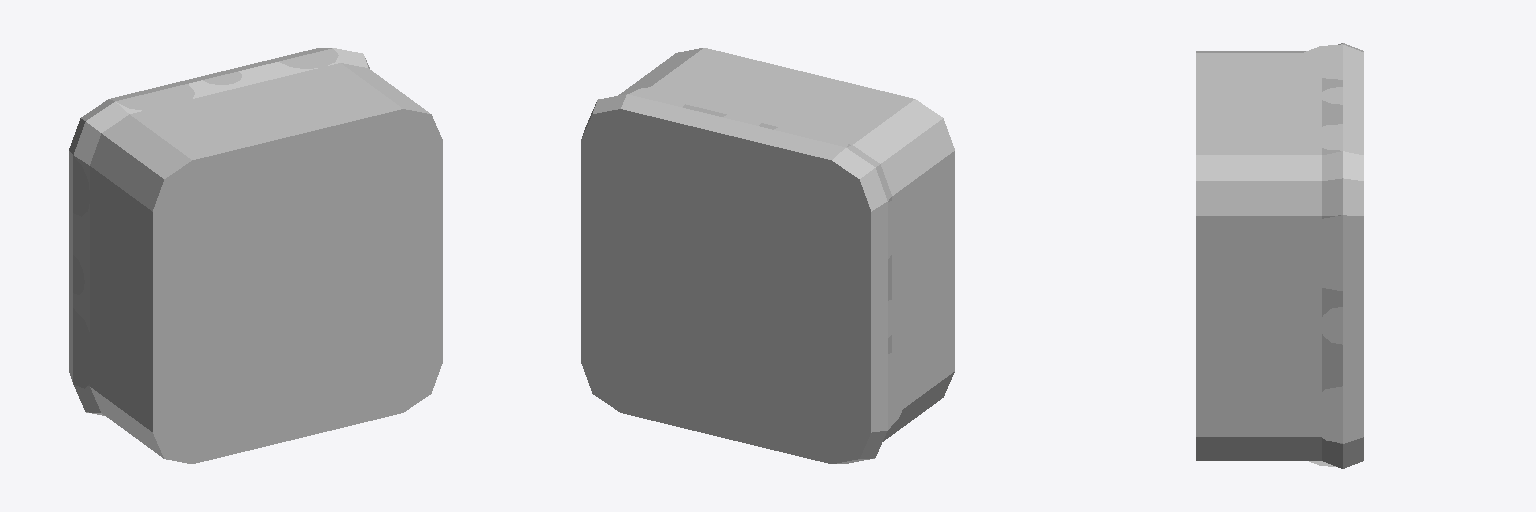
File: block-snow-overhang-large.obj
3 views of the same model, side by side, from view 1: azimuth 30°, elevation 25°; view 2: azimuth 150°, elevation 25°; view 3: azimuth 270°, elevation 25° (orthographic).
Visible parts, largest first — view 1: block-snow-overhang-large; view 2: block-snow-overhang-large; view 3: block-snow-overhang-large.
Boxes of the visible parts, x1=… form: block-snow-overhang-large: x1=69, y1=48, x2=442, y2=463; block-snow-overhang-large: x1=581, y1=48, x2=954, y2=463; block-snow-overhang-large: x1=1196, y1=43, x2=1363, y2=468.
Bounding box in the file's own units: 2.08 × 2.08 × 1.